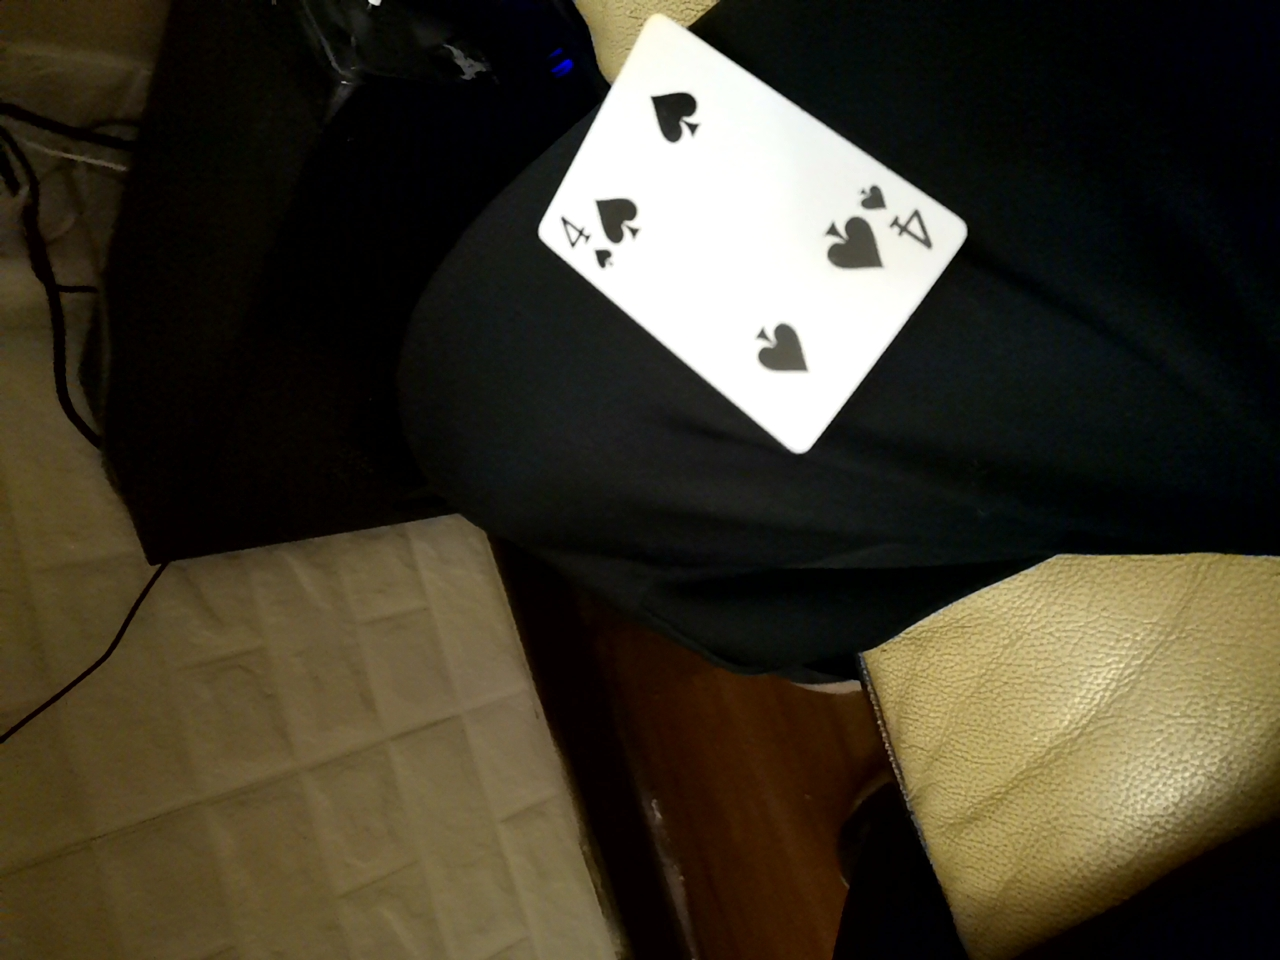ht 4: (526, 39, 1003, 454)
